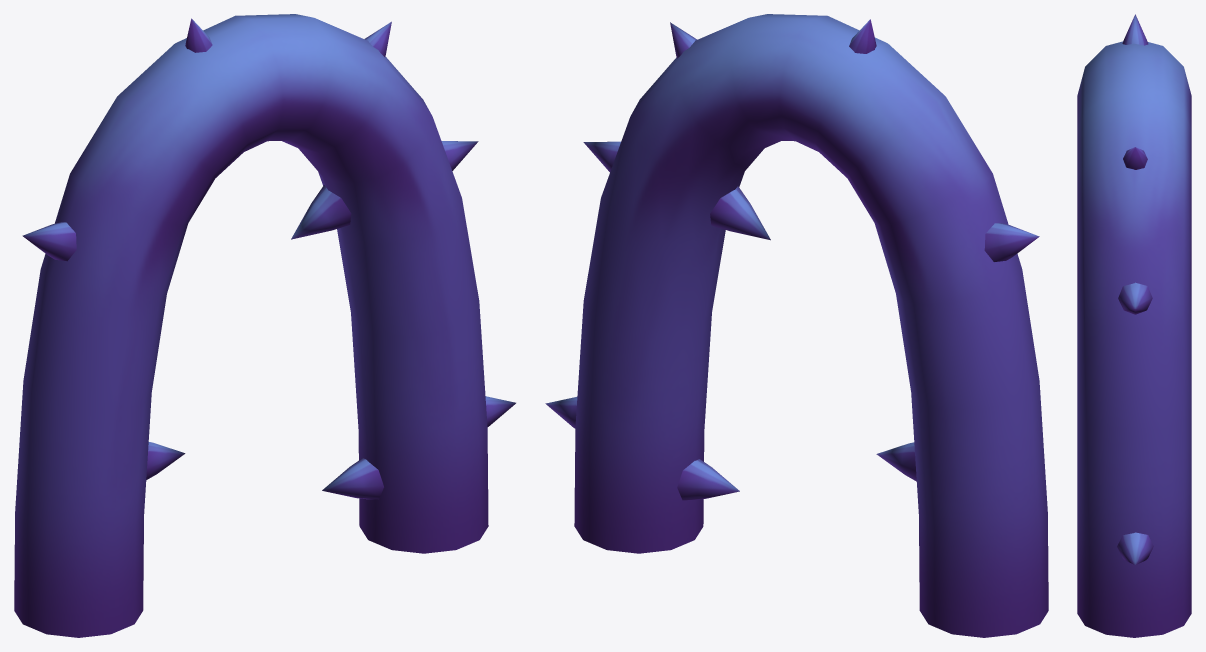
The model's file is ThornVine_L_05.fbx.
The picture shows the model from 3 angles, left to right: view 1: azimuth 30°, elevation 25°; view 2: azimuth 150°, elevation 25°; view 3: azimuth 270°, elevation 25°; orthographic projection. The views are drawn at different scales.
Parts seen in each view (by area): view 1: ThornVine_L_5; view 2: ThornVine_L_5; view 3: ThornVine_L_5.
Boxes of the visible parts, bbox=[...] form: ThornVine_L_5: bbox=[14, 14, 515, 637]; ThornVine_L_5: bbox=[545, 14, 1048, 637]; ThornVine_L_5: bbox=[1077, 14, 1191, 637].
Bounding box in the file's own units: 88.54 × 96.58 × 20.
